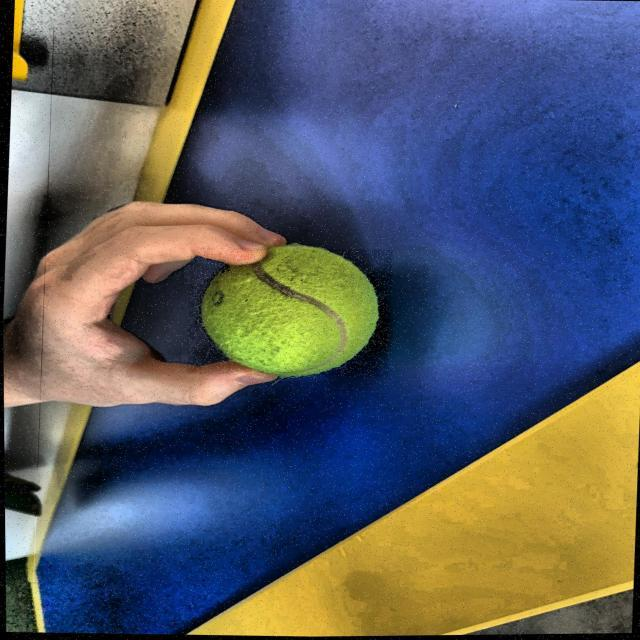tennis-ball: (185, 246, 394, 380)
